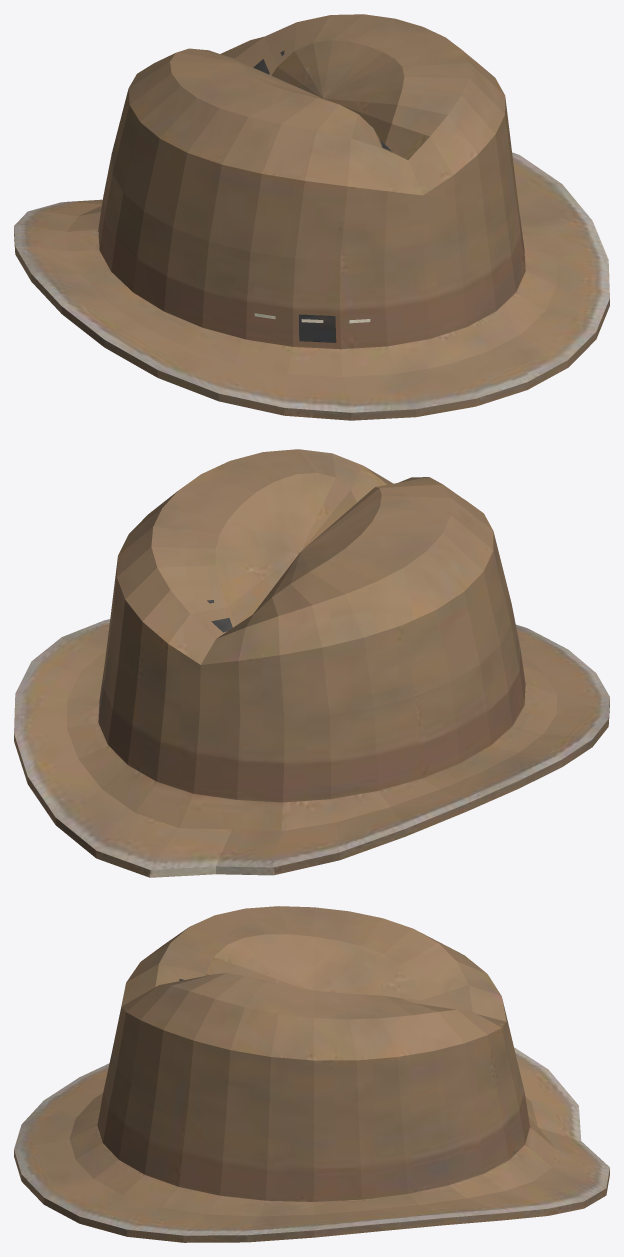
File: D14_old_hat_v1.glb
3 renders of one model, top to bottom at view 1: azimuth 30°, elevation 25°; view 2: azimuth 150°, elevation 25°; view 3: azimuth 270°, elevation 25°, orthographic. The views are drawn at different scales.
Visible parts, largest first — view 1: Old Hat - Crushed Fedora; view 2: Old Hat - Crushed Fedora; view 3: Old Hat - Crushed Fedora.
Boxes of the visible parts, left/top/right/bottom form: Old Hat - Crushed Fedora: left=14, top=14, right=609, bottom=420; Old Hat - Crushed Fedora: left=14, top=449, right=609, bottom=877; Old Hat - Crushed Fedora: left=14, top=906, right=609, bottom=1242.
Bounding box in the file's own units: 0.266 × 0.1238 × 0.3.
Materials: 5 (5 with a texture image).
